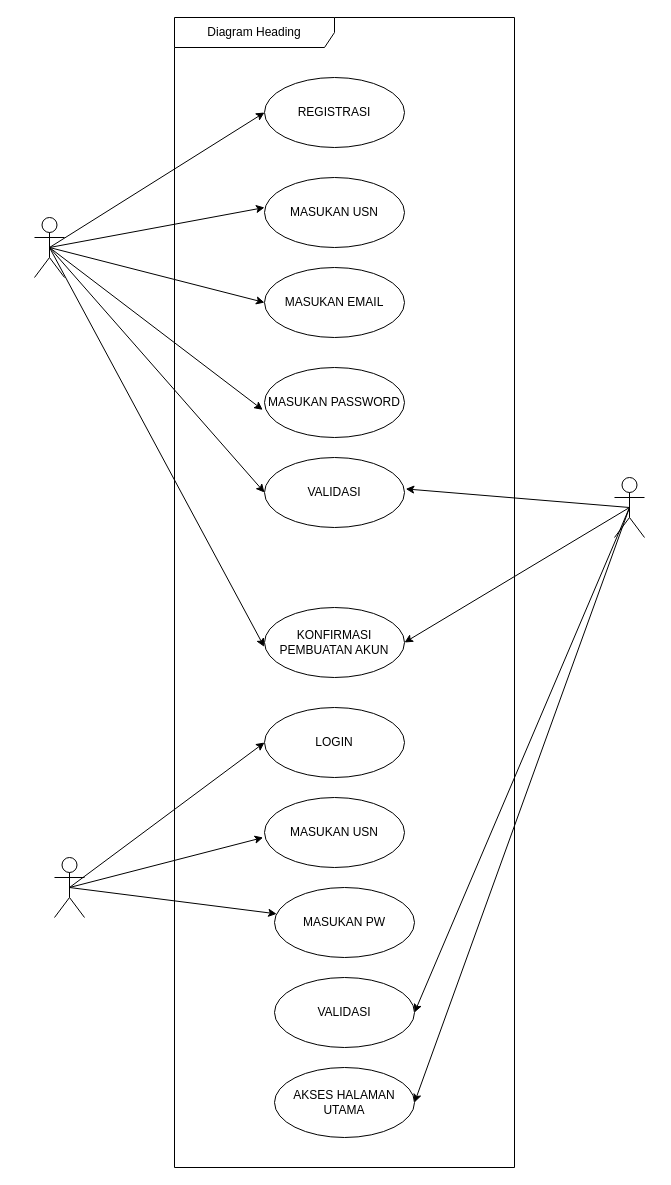
Image size: 671x1185. Some labels were removed from this diagram. The shapes that lost their labels are listed below. From the top down, each one's centre as x and y in pixels, then its label:
the point at 49,247: NEW USER
the point at 629,507: SYSTEM
the point at 69,887: USER
